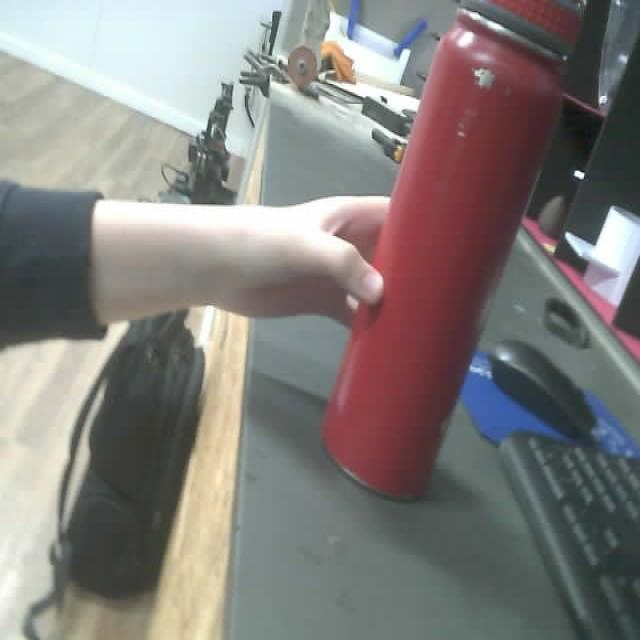water bottle: (320, 2, 601, 506)
